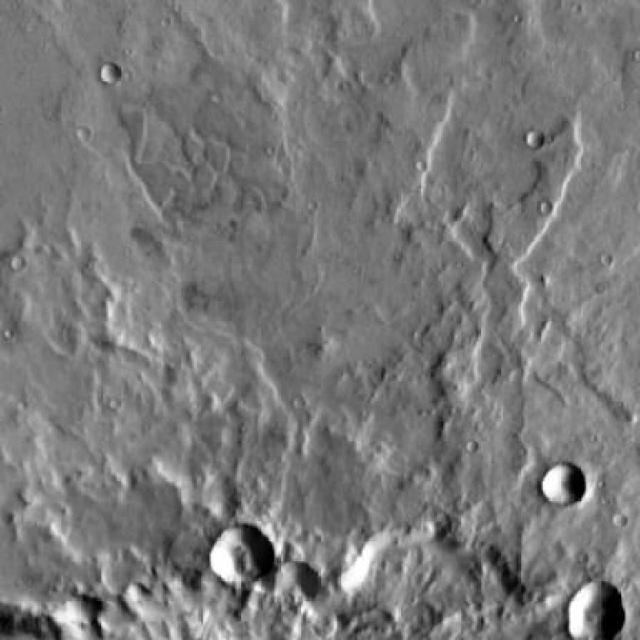crater: (211, 527, 275, 590), (568, 583, 627, 640), (544, 461, 585, 502), (105, 65, 124, 83), (526, 132, 545, 150), (11, 256, 23, 272)
